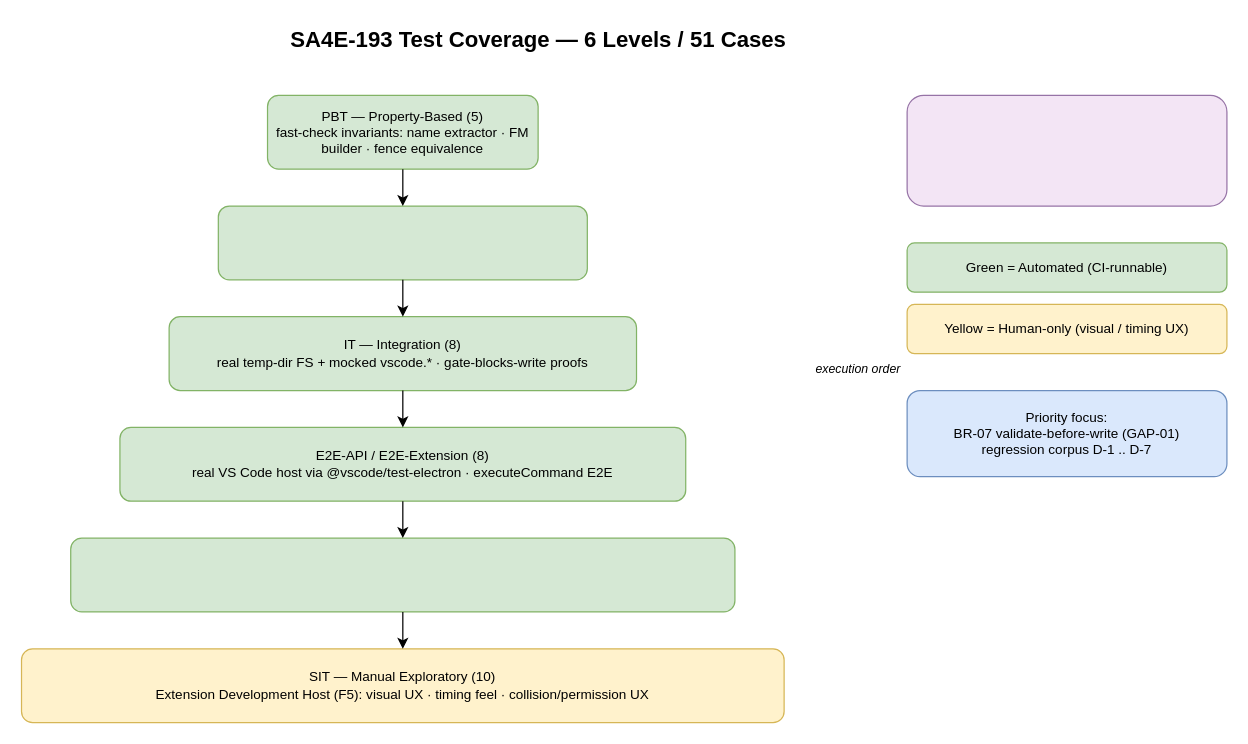
Image size: 1248x744. Some labels were removed from this diagram. The shapes that lost their labels are listed below. From the top down, each one's centre as x and y in pixels, then its label:
the point at 1066,150: Summary Total: 51 cases Automated: 41 (80%) Manual: 10 (20%)
the point at 402,242: UT — Unit (14) ValidationGate branches · NameExtractor · defaults BR-18/19/20
the point at 402,574: E2E-UI (6) Playwright webview: slash menu · dialogs · toasts · hot-reload ≤ 1 s
